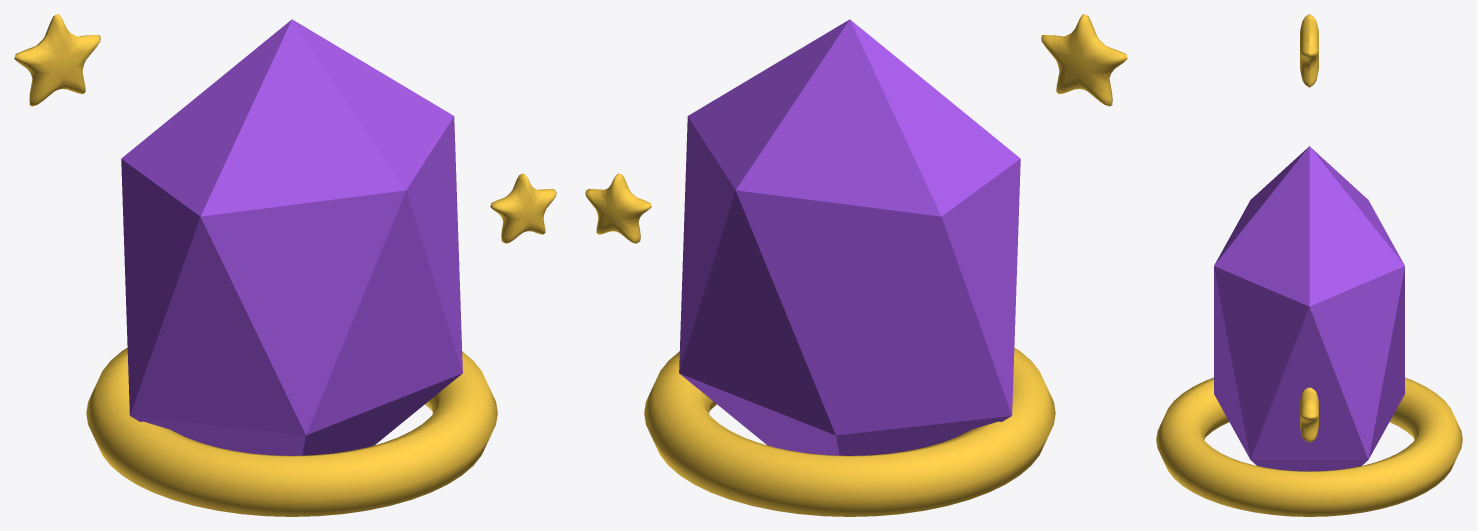
The model's file is gem.glb.
3 renders of one model, left to right at view 1: azimuth 30°, elevation 25°; view 2: azimuth 150°, elevation 25°; view 3: azimuth 270°, elevation 25°, orthographic. The views are drawn at different scales.
Visible parts, largest first — view 1: Amethyst collectible, Collectible bezel, Crystal sparkle, Crystal sparkle.001; view 2: Amethyst collectible, Collectible bezel, Crystal sparkle, Crystal sparkle.001; view 3: Amethyst collectible, Collectible bezel, Crystal sparkle, Crystal sparkle.001.
Boxes of the visible parts, box(x1,y1,x2,y2) form: Amethyst collectible: box(121, 19, 462, 455); Collectible bezel: box(86, 347, 497, 516); Crystal sparkle: box(14, 14, 100, 106); Crystal sparkle.001: box(490, 173, 556, 243); Amethyst collectible: box(679, 19, 1020, 455); Collectible bezel: box(644, 347, 1055, 516); Crystal sparkle: box(1041, 14, 1127, 106); Crystal sparkle.001: box(585, 173, 651, 243); Amethyst collectible: box(1214, 146, 1404, 471); Collectible bezel: box(1156, 377, 1462, 516); Crystal sparkle: box(1300, 14, 1318, 87); Crystal sparkle.001: box(1300, 387, 1318, 442).
Size of the model in its own units: 1.73 by 1.7 by 1.14.
